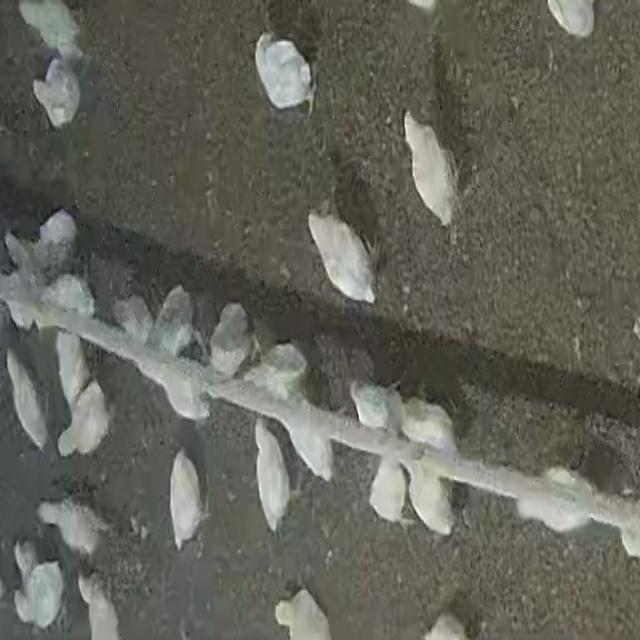chicken: (310, 214, 382, 306), (396, 121, 456, 224), (274, 385, 334, 484), (516, 467, 596, 531), (40, 485, 101, 561), (18, 0, 89, 64), (11, 565, 71, 634), (8, 352, 52, 443), (56, 379, 106, 459), (262, 38, 314, 112), (168, 453, 208, 548), (255, 418, 288, 526), (76, 575, 126, 640), (354, 378, 404, 441), (149, 286, 199, 348), (367, 453, 409, 525), (410, 466, 451, 538), (208, 302, 251, 370), (107, 296, 154, 357), (401, 398, 460, 444), (35, 212, 74, 274), (36, 66, 80, 120), (54, 333, 90, 397)
